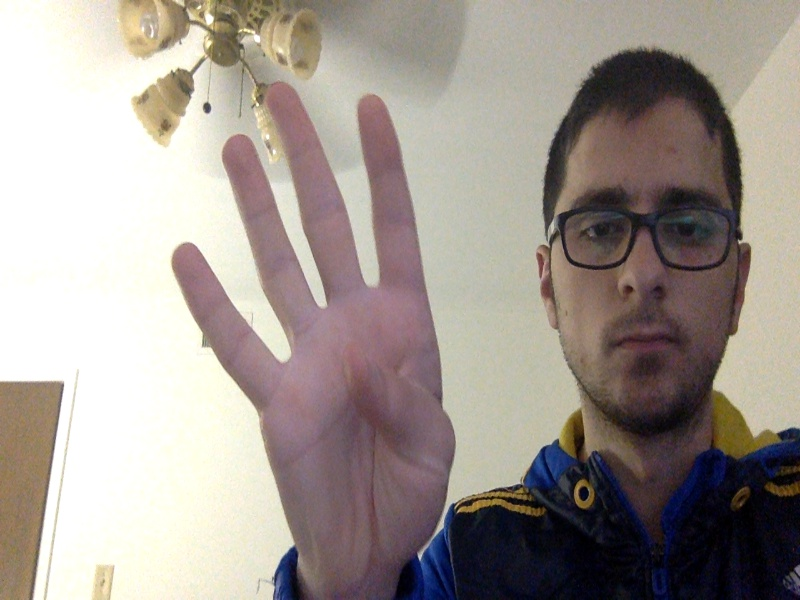4-hand: (174, 80, 457, 590)
